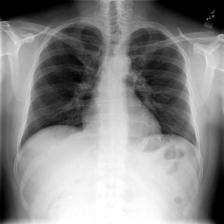normal: (17, 15, 198, 154)
